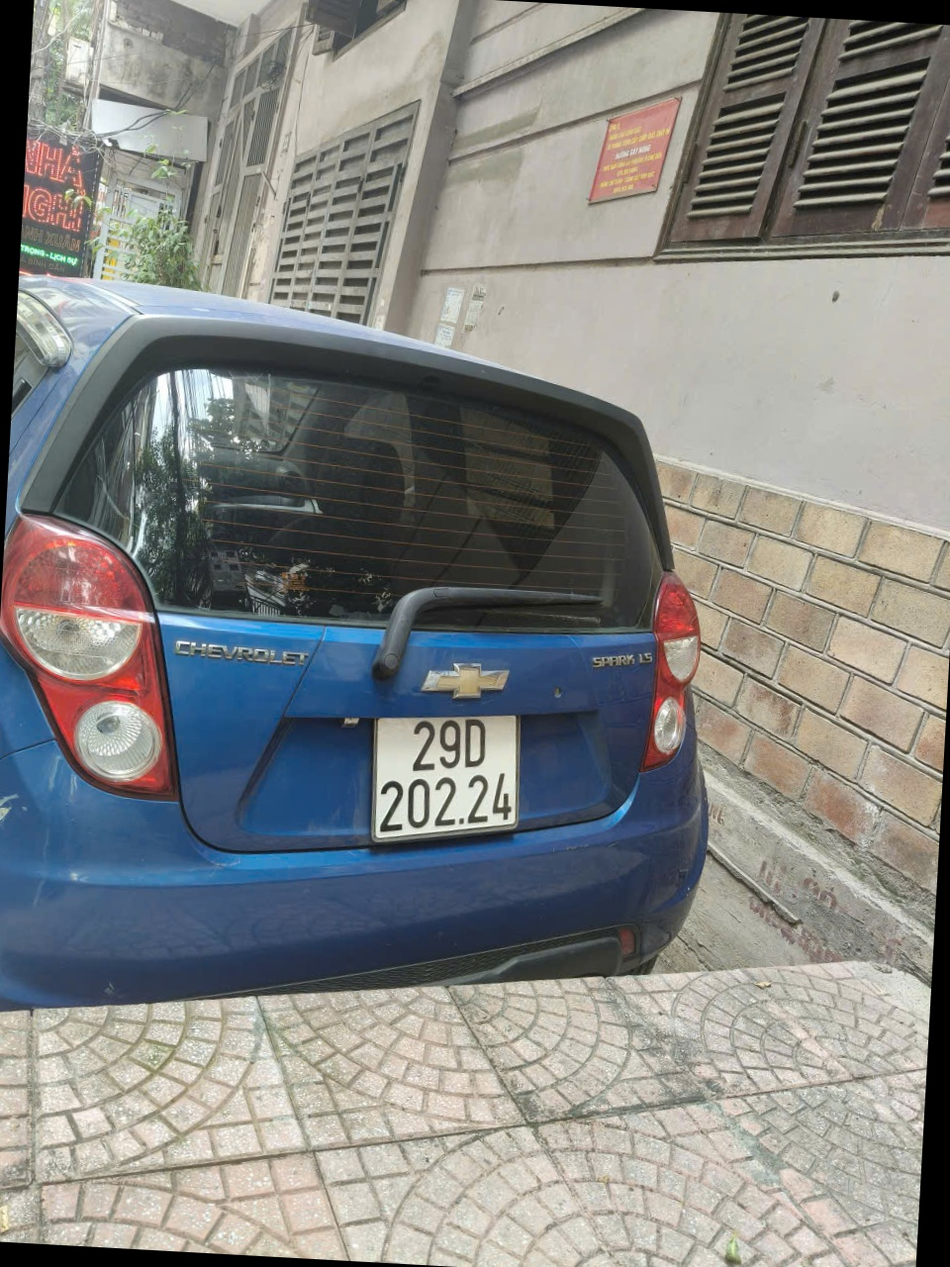plate: (363, 824, 518, 859)
